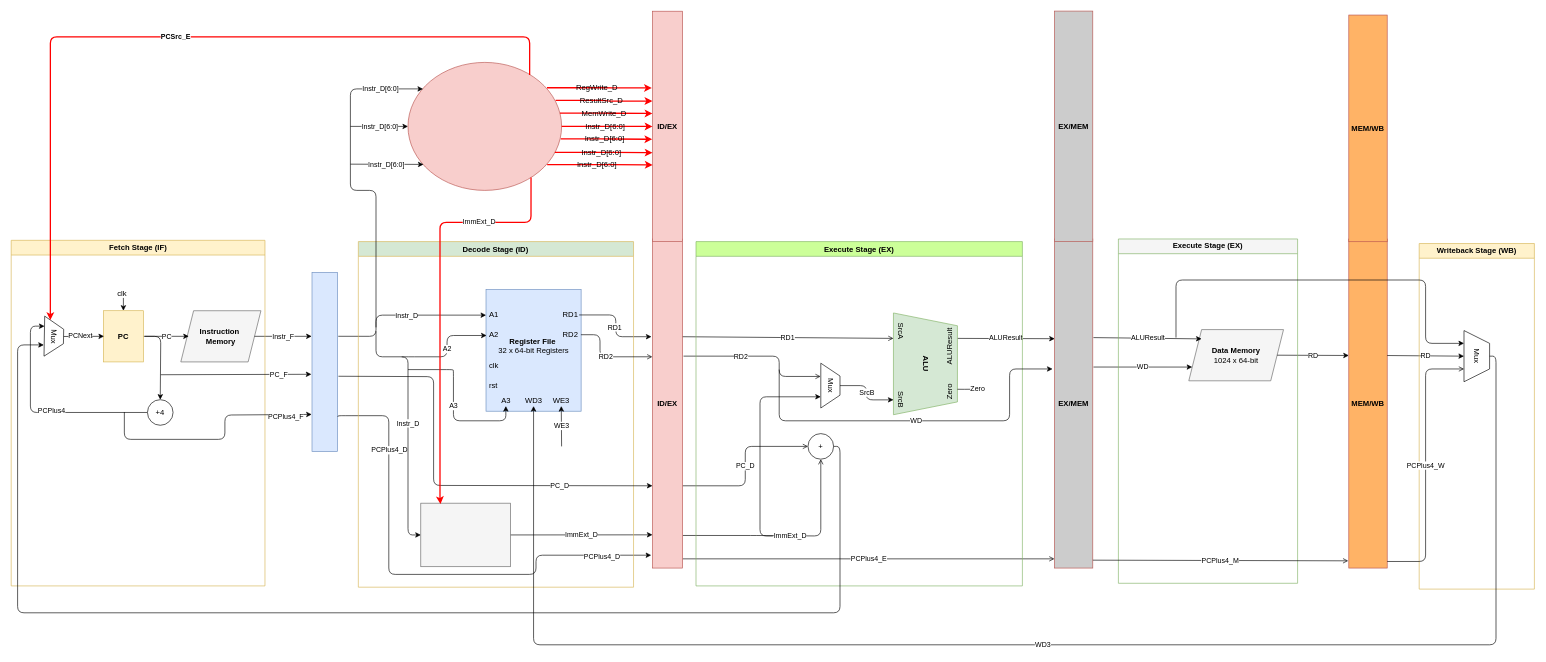
Some shapes in this 1546 by 662 pixel diagram are drawn without their labels. The centre of each missing label's shape, as x and y in pixels:
"Control Unit" belongs at (x=484, y=126).
"IF/ID" belongs at (x=324, y=362).
"Immediate Generator" belongs at (x=465, y=535).
